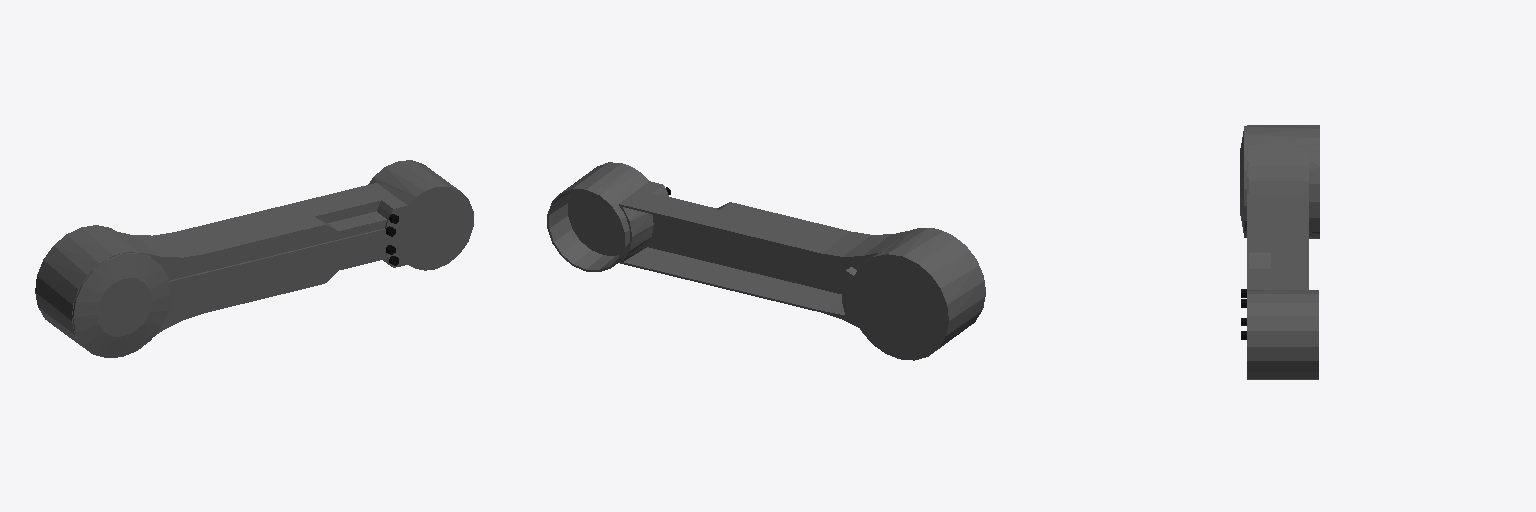
File: Eslabon1.obj
3 views of the same model, side by side, from view 1: azimuth 30°, elevation 25°; view 2: azimuth 150°, elevation 25°; view 3: azimuth 270°, elevation 25° (orthographic).
Visible parts, largest first — view 1: quilt__21_0; view 2: quilt__21_0; view 3: quilt__21_0.
Boxes of the visible parts, box(x1,y1,x2,y2) form: quilt__21_0: box(35, 160, 473, 357); quilt__21_0: box(547, 162, 985, 360); quilt__21_0: box(1240, 125, 1319, 379).
Bounding box in the file's own units: 0.6405 × 0.1578 × 0.11.